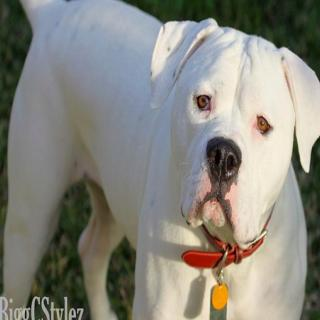dog: (151, 15, 320, 256)
nose: (204, 135, 239, 187)
